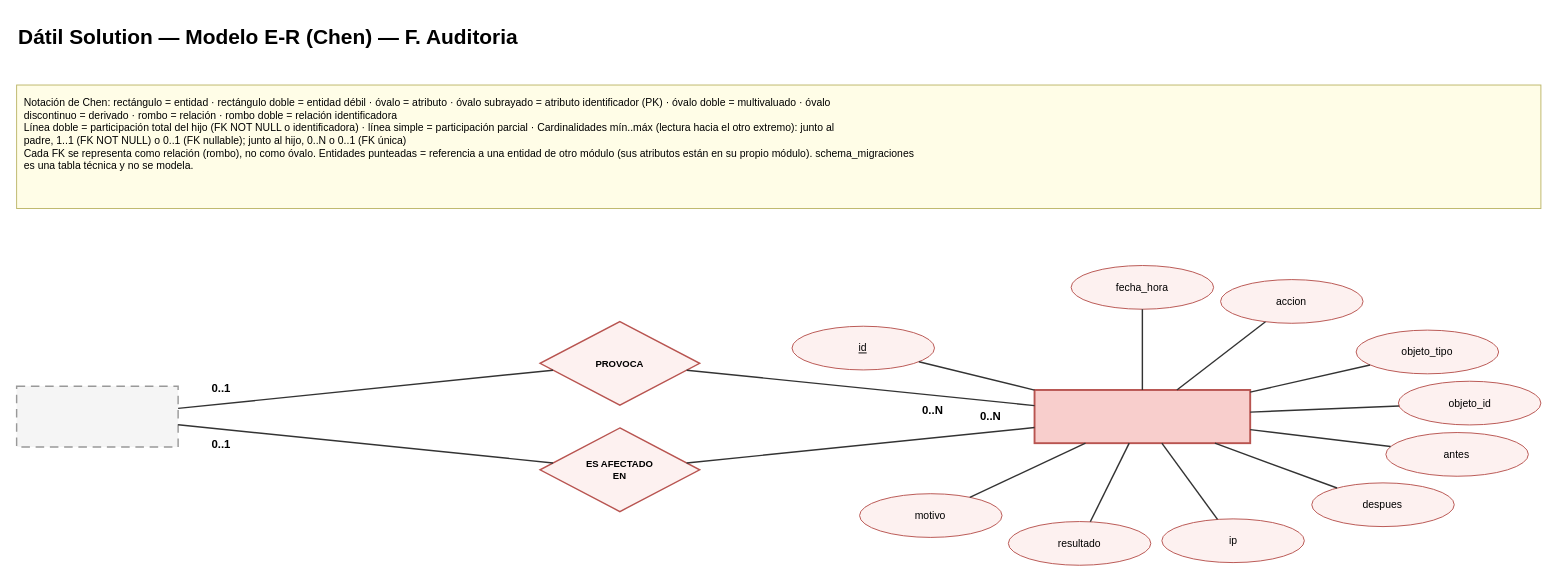
Some shapes in this 1558 by 581 pixel diagram are drawn without their labels. The shapes that lost their labels are listed below. From the top down, each one's box as (x1, y1, x2, y2) in pixels, then its label:
(15, 385, 178, 447): USUARIOS (modulo A)
(1033, 389, 1251, 444): AUDITORIA_GENERAL
